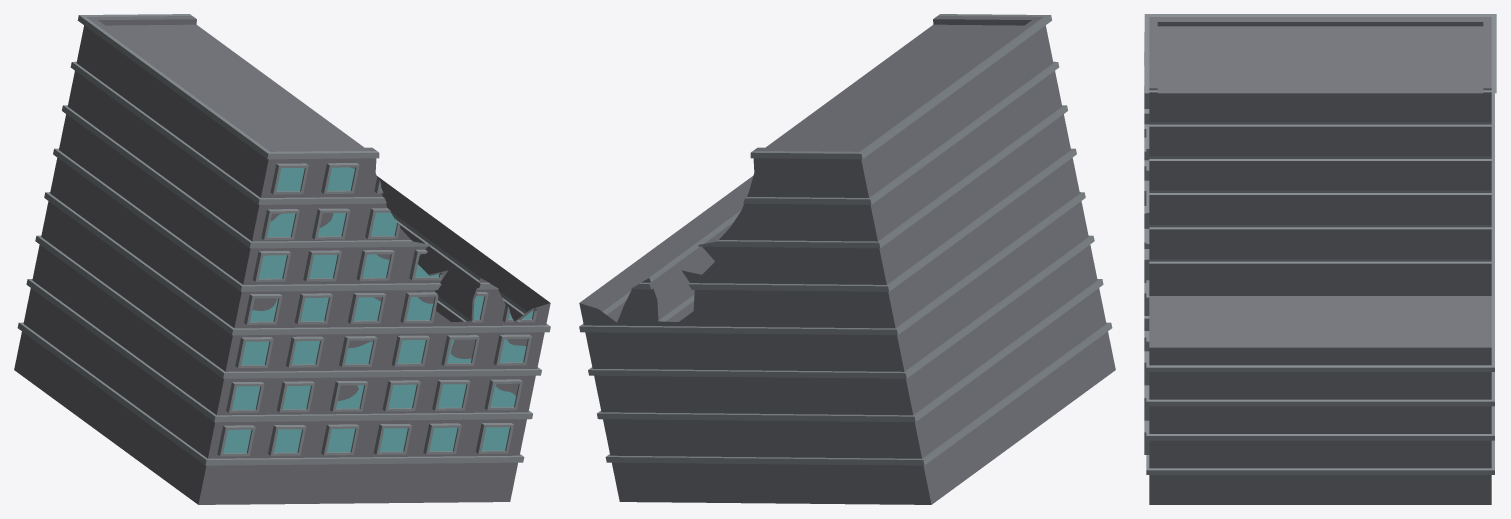
File: Flat3_Verwoest.fbx
The picture shows the model from 3 angles, left to right: view 1: azimuth 30°, elevation 25°; view 2: azimuth 150°, elevation 25°; view 3: azimuth 270°, elevation 25°; orthographic projection. The views are drawn at different scales.
Parts seen in each view (by area): view 1: Flat3_Verwoest; view 2: Flat3_Verwoest; view 3: Flat3_Verwoest.
Boxes of the visible parts, bbox=[...] form: Flat3_Verwoest: bbox=[14, 14, 550, 504]; Flat3_Verwoest: bbox=[579, 14, 1115, 504]; Flat3_Verwoest: bbox=[1144, 14, 1496, 504].
Bounding box in the file's own units: 858 × 953 × 800.
